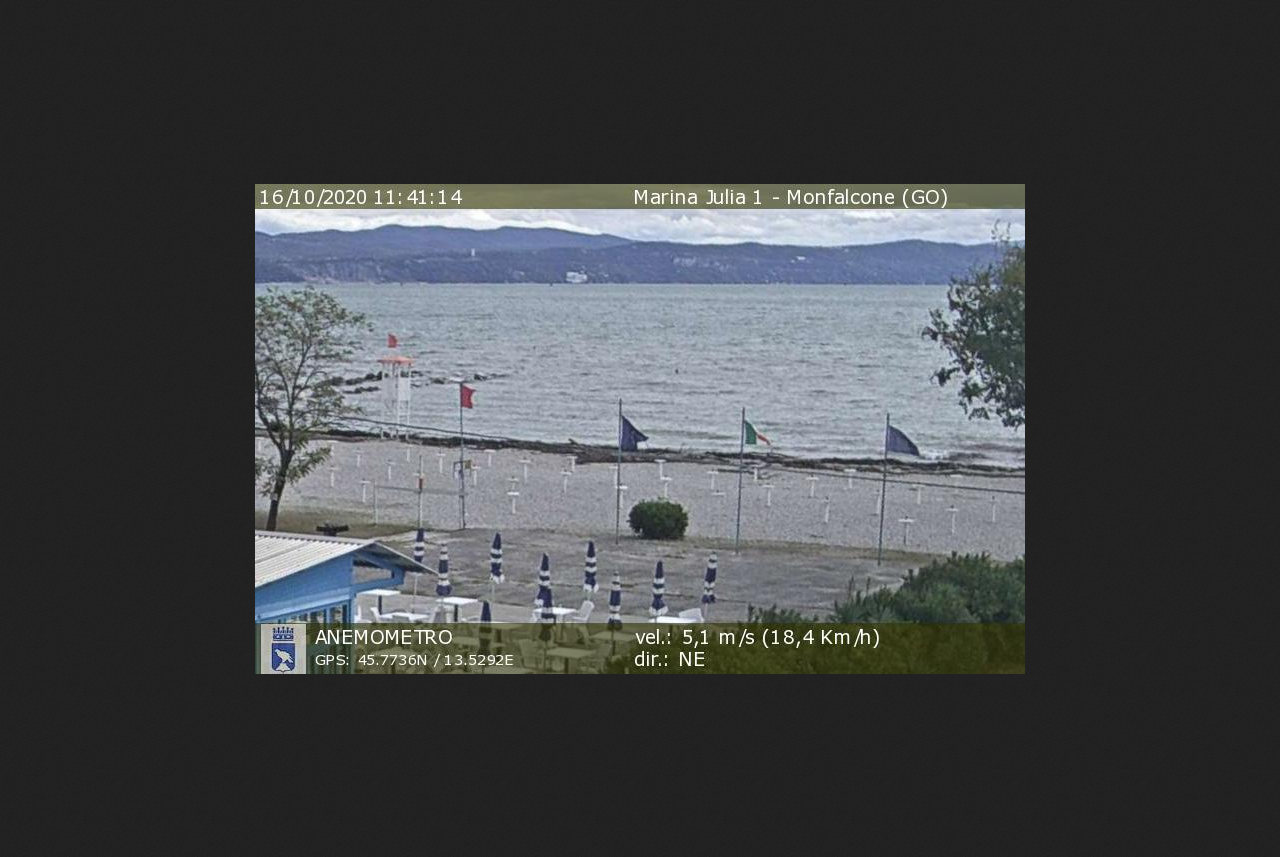maybe: (878, 420, 926, 462), (610, 410, 654, 455), (735, 414, 775, 455), (452, 379, 481, 415)
